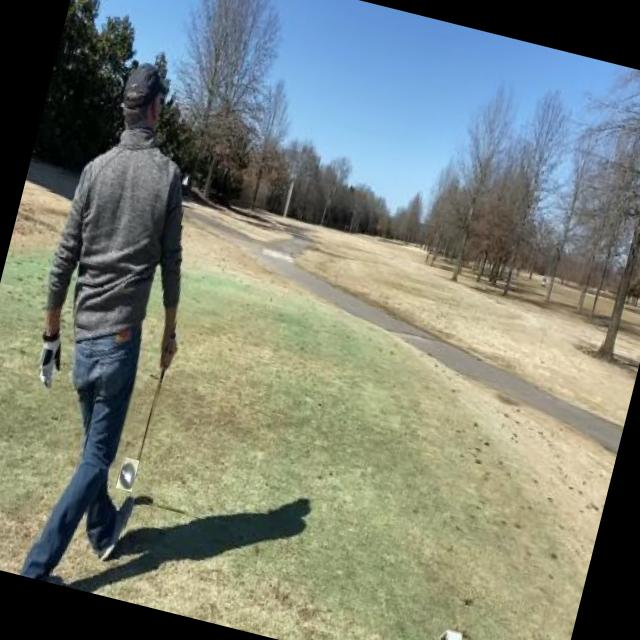club head: (115, 456, 138, 492)
